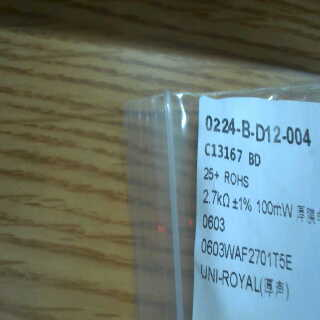2.7kR: (200, 184, 232, 213)
